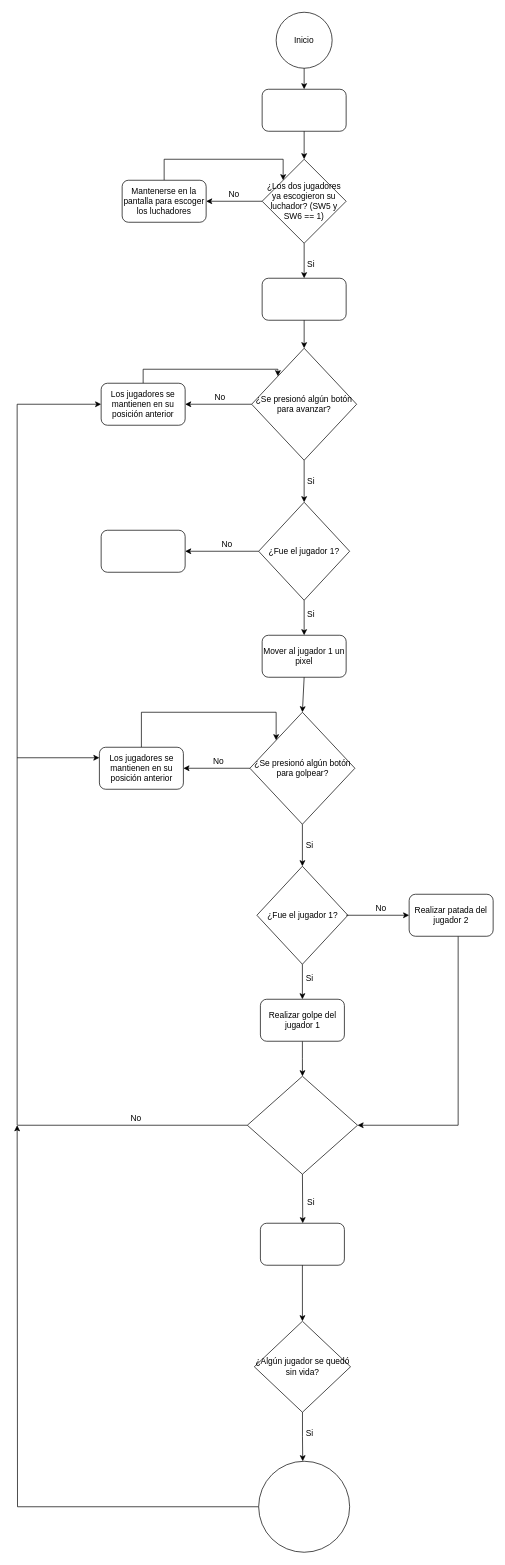
This 505x1565 diagram has some shape labels left out. The centre of each missing label's shape, as x and y in pixels:
Bajarle puntos de vida al jugador que fue golpeado: (302,1244)
Mostrar al jugador que aún tiene vida, almacenarlo en la SD y comenzar de nuevo: (304,1506)
Mover al jugador 2 un pixel: (142,551)
Pasar a la escena de pelea con los jugadores en esquinar opuestas: (303,299)
Se observa la pantalla para escoger a los luchadores: (303,110)
¿El golpe cayó en el área del contrincante?: (302,1125)
